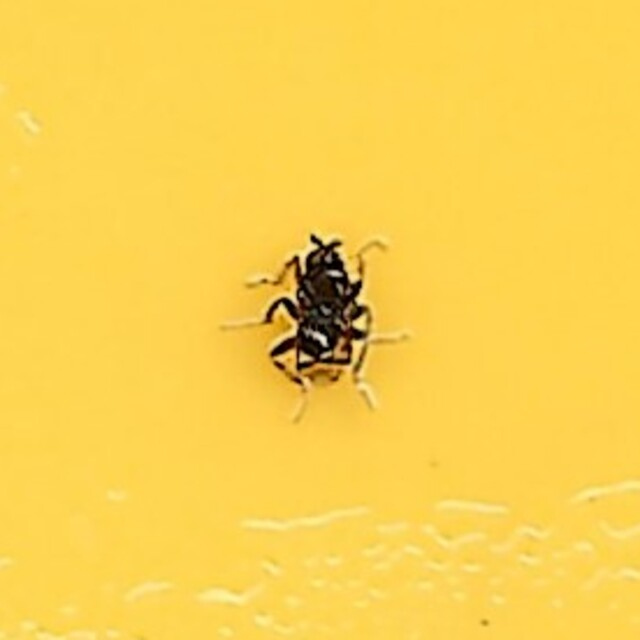Brachycera: (232, 227, 408, 413)
